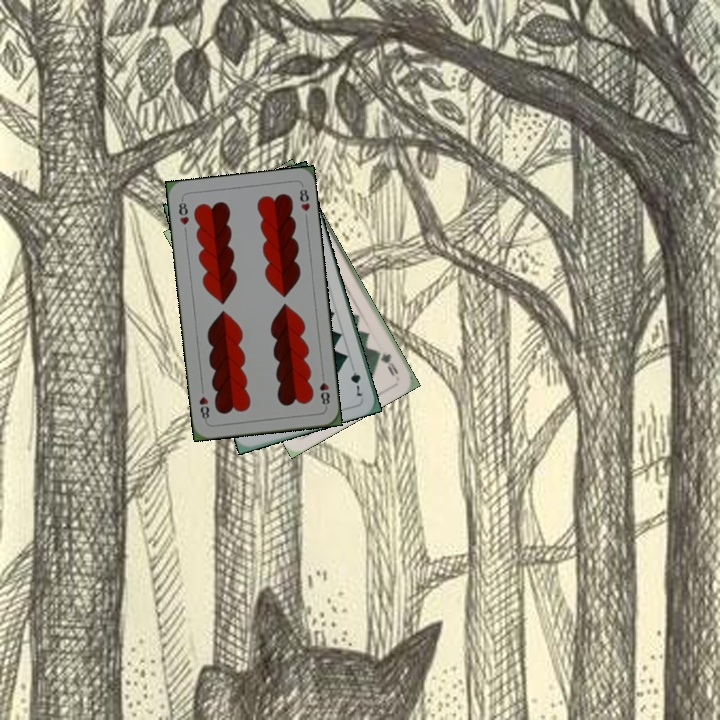G7: (347, 360, 365, 399)
G9: (374, 347, 401, 379)
H8: (316, 370, 332, 410), (175, 195, 192, 227)
